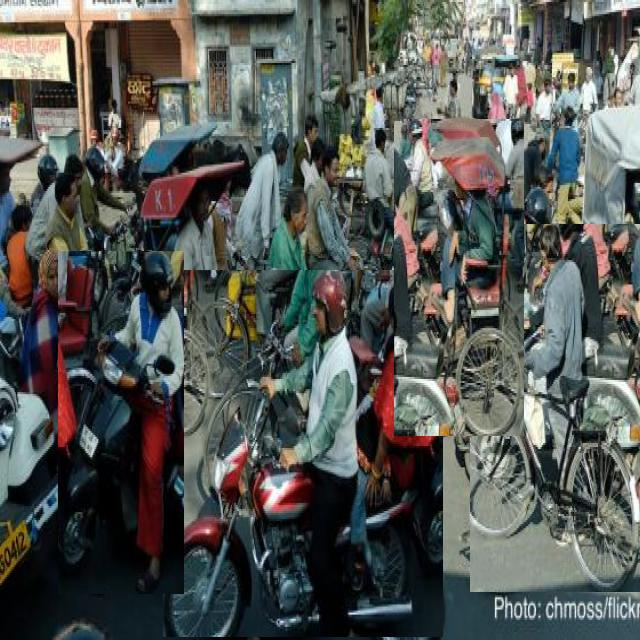bicycle: (470, 225, 640, 592), (395, 120, 524, 436)
motorcycle: (164, 271, 443, 637), (59, 251, 184, 594)
